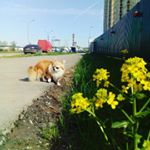puppy: (25, 56, 67, 88)
